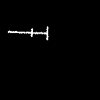double_crochet: (8, 27, 47, 39)
